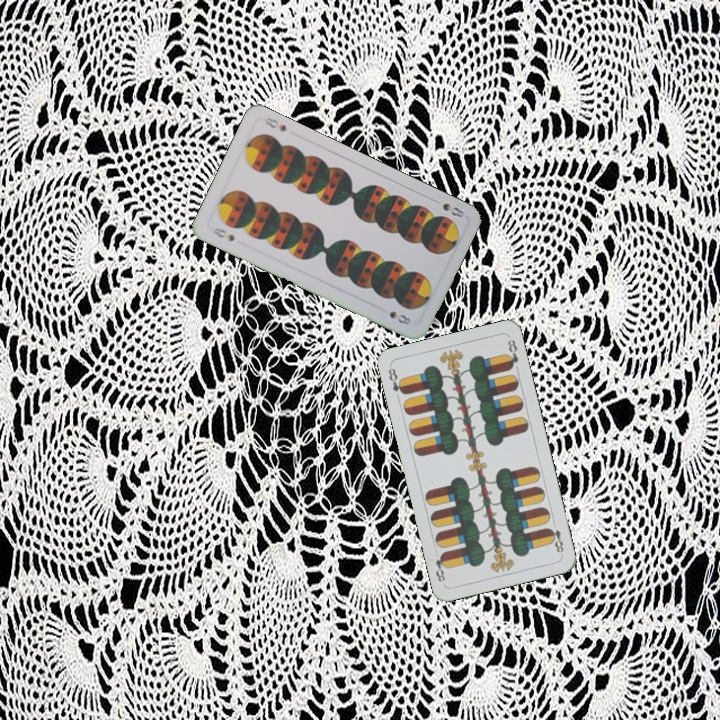E8: (545, 517, 566, 557), (384, 364, 408, 397)
S8: (429, 195, 467, 220), (209, 223, 237, 244)
